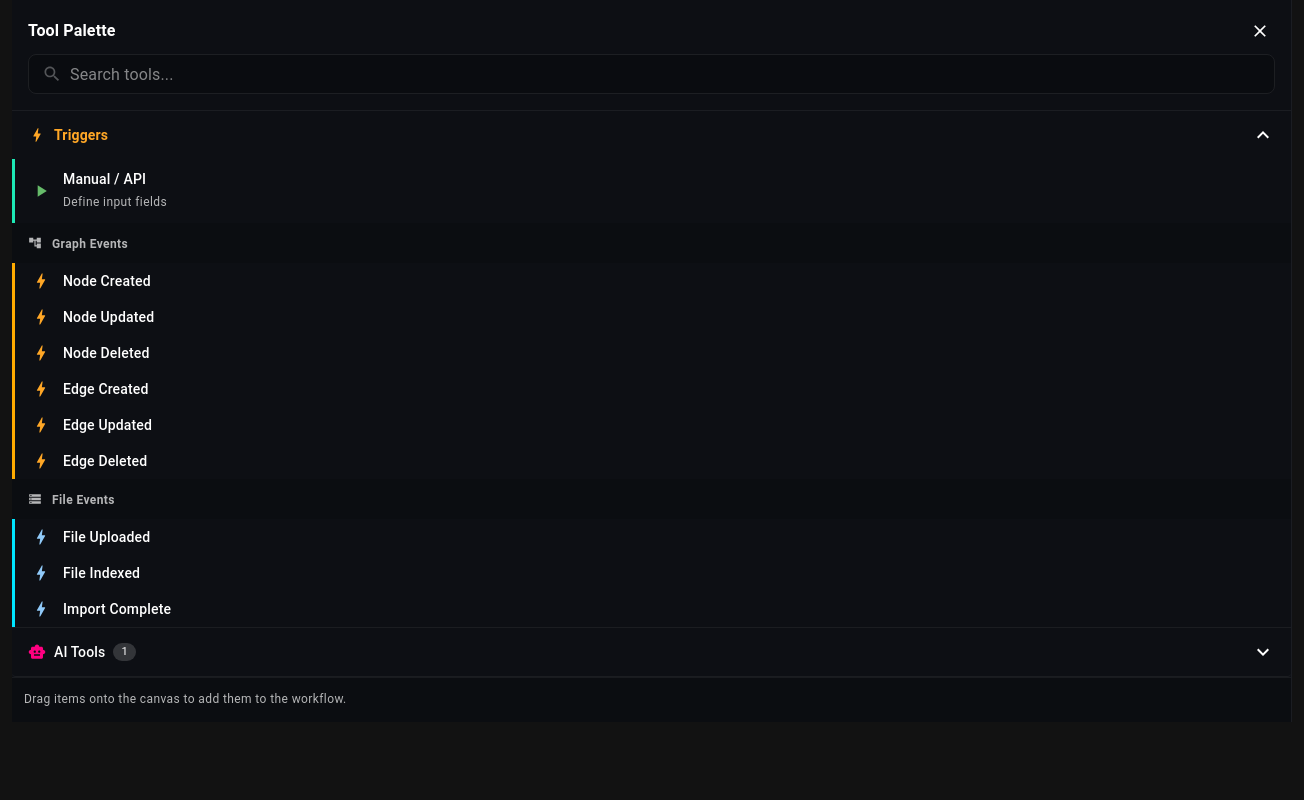
Test: ToolPalette › filters tools by the search query
expect the text "AI Tools" is shown: met, box [54, 642, 105, 662]
Type "no-such-tool" into the field with placeholder "Search tools..." at (672, 74), box [70, 54, 1275, 94]
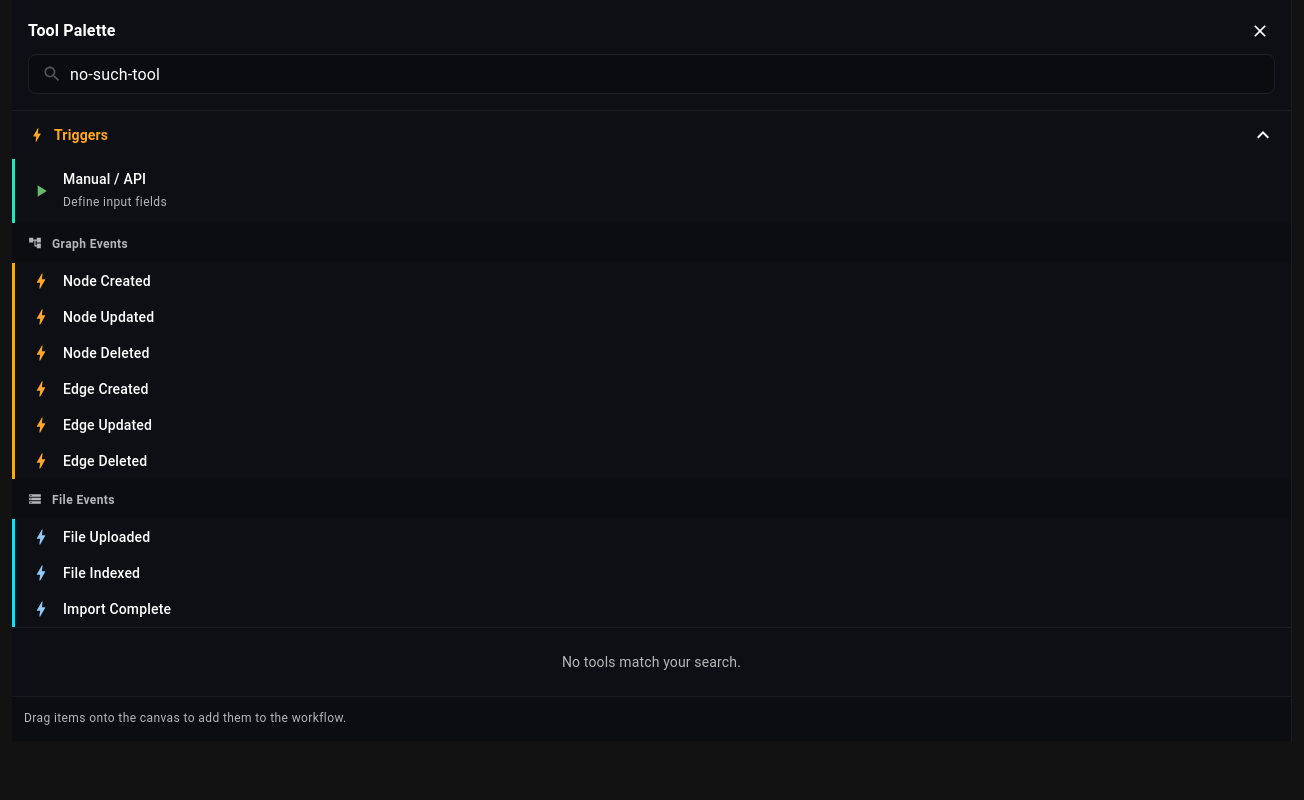
expect the text "No tools match your search." is shown: met, box [562, 654, 741, 670]
